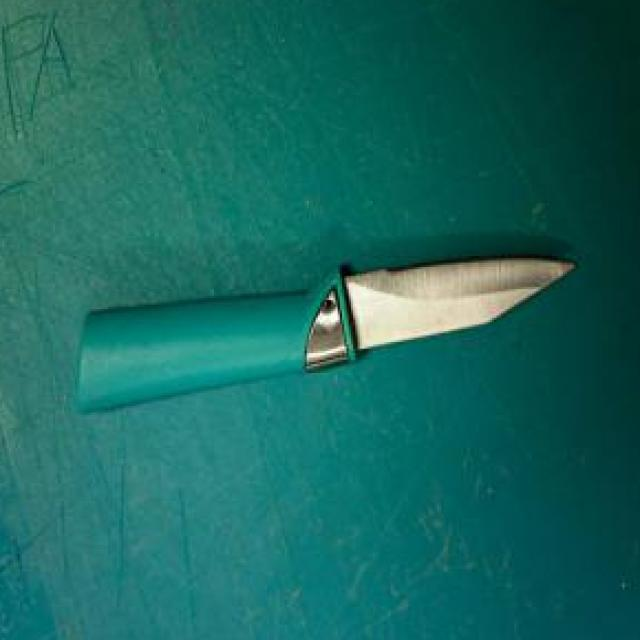knife: (74, 234, 576, 419)
